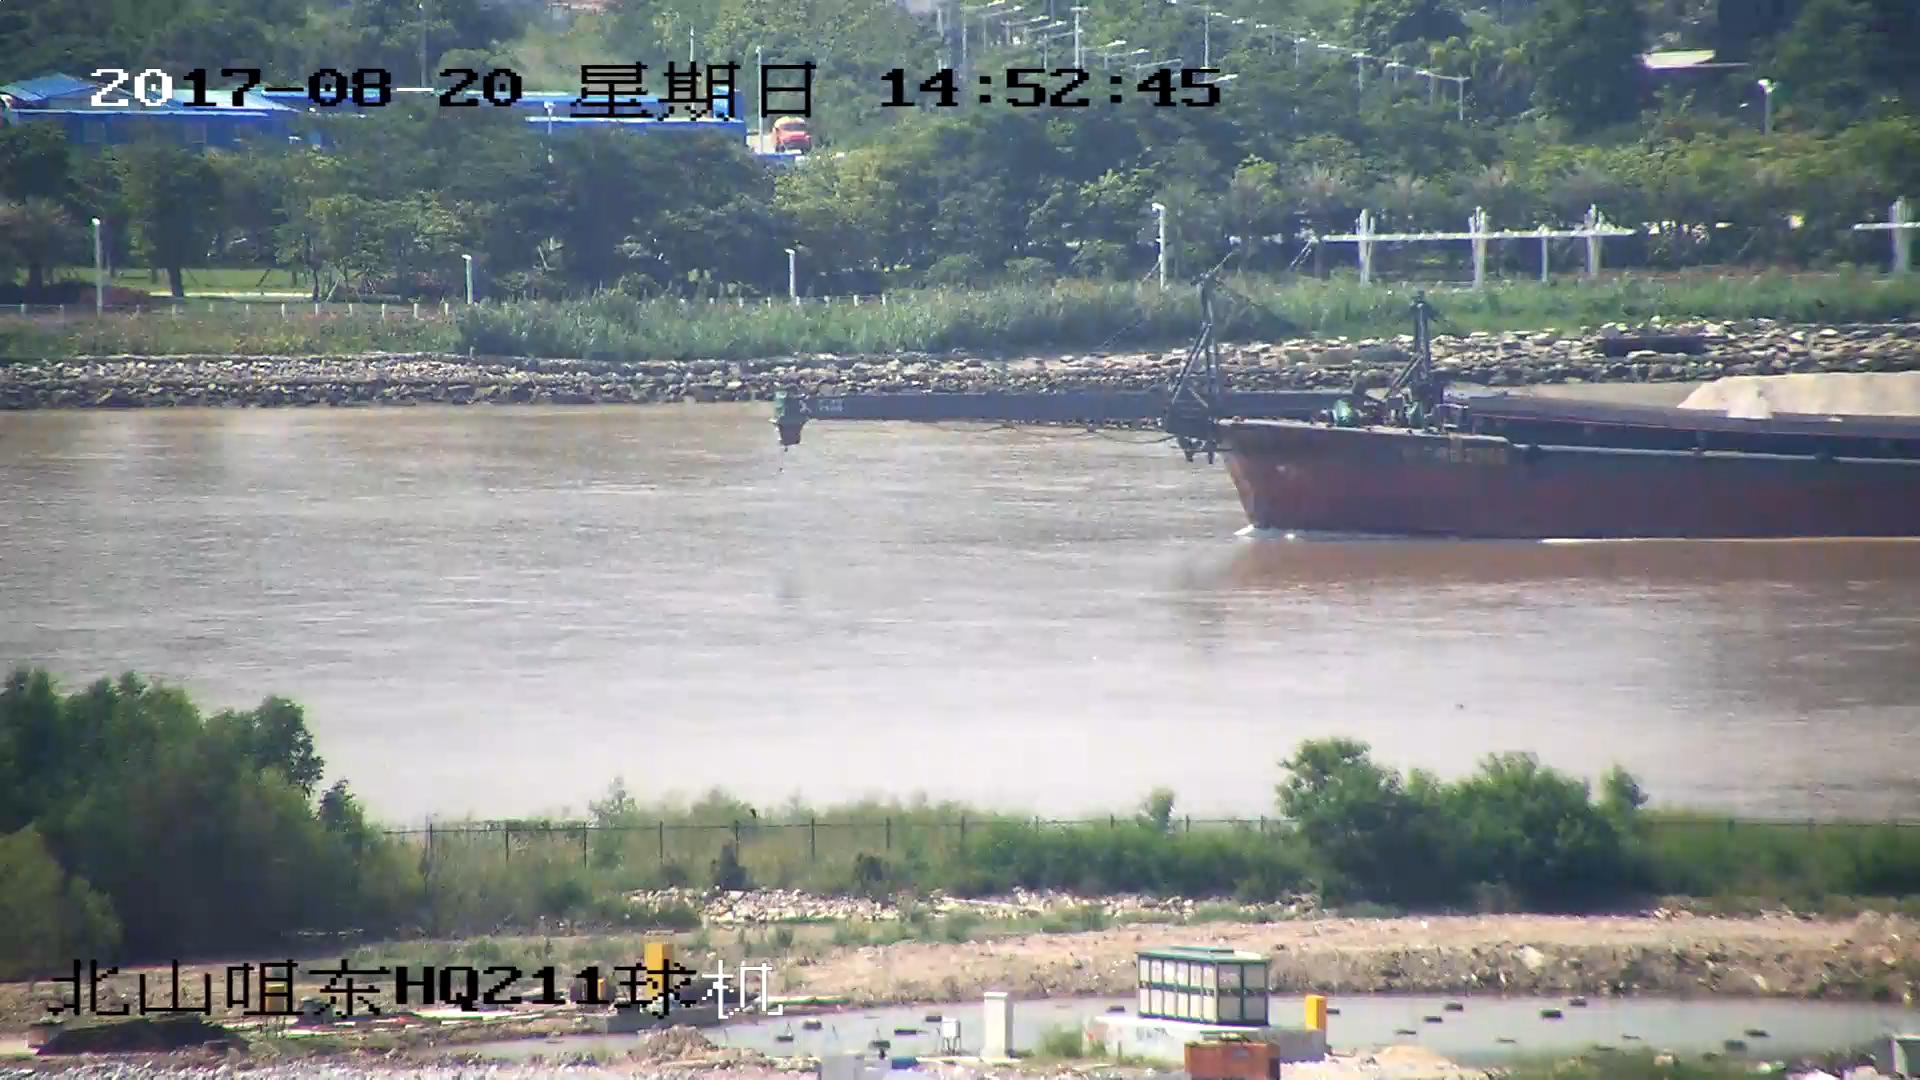bulk cargo carrier: (782, 278, 1920, 536)
ore carrier: (1031, 367, 1920, 469)
